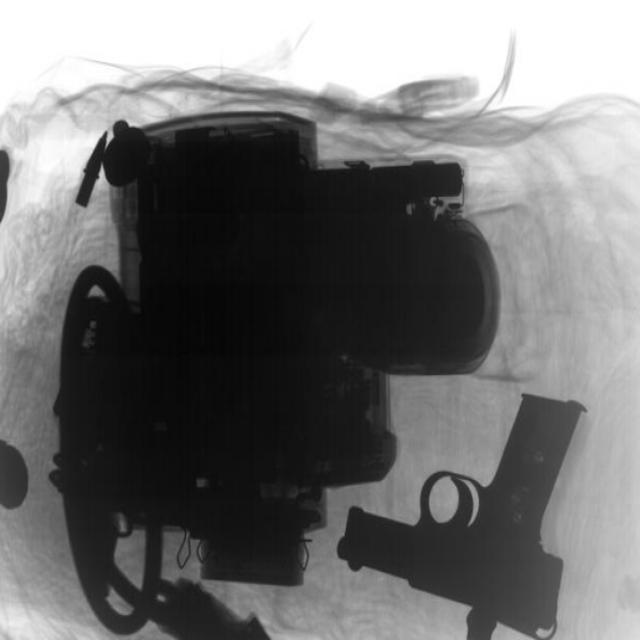GUN: (339, 391, 585, 639), (29, 464, 279, 640)
